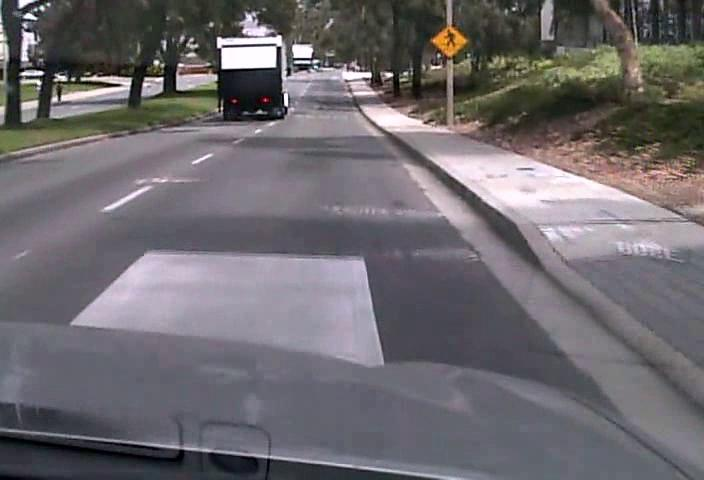pedestrianCrossing: (429, 23, 468, 57)
